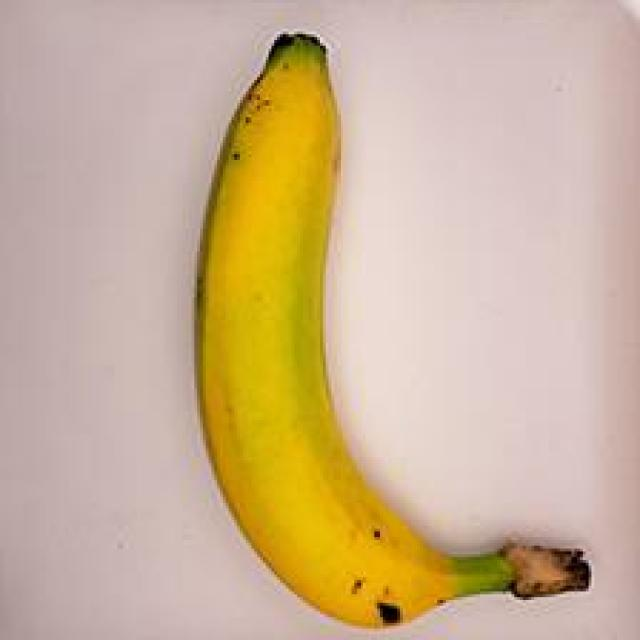unripe: (150, 17, 608, 635)
